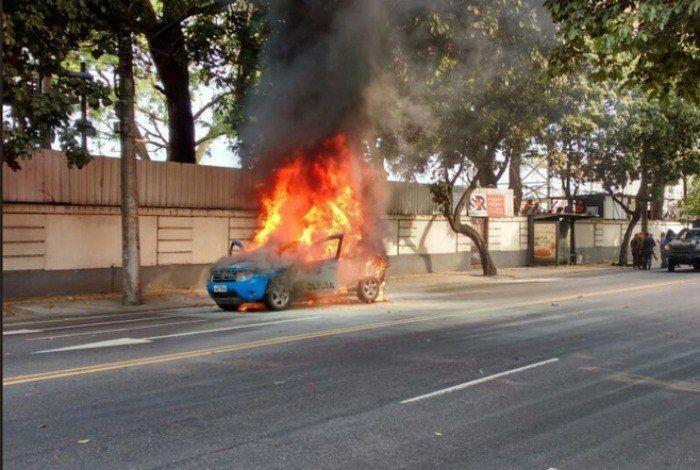fire: (244, 137, 378, 253), (345, 253, 387, 284), (296, 294, 353, 306), (240, 300, 262, 311)
smoke: (239, 0, 540, 140), (357, 153, 394, 240), (238, 245, 305, 283), (232, 140, 283, 188)
